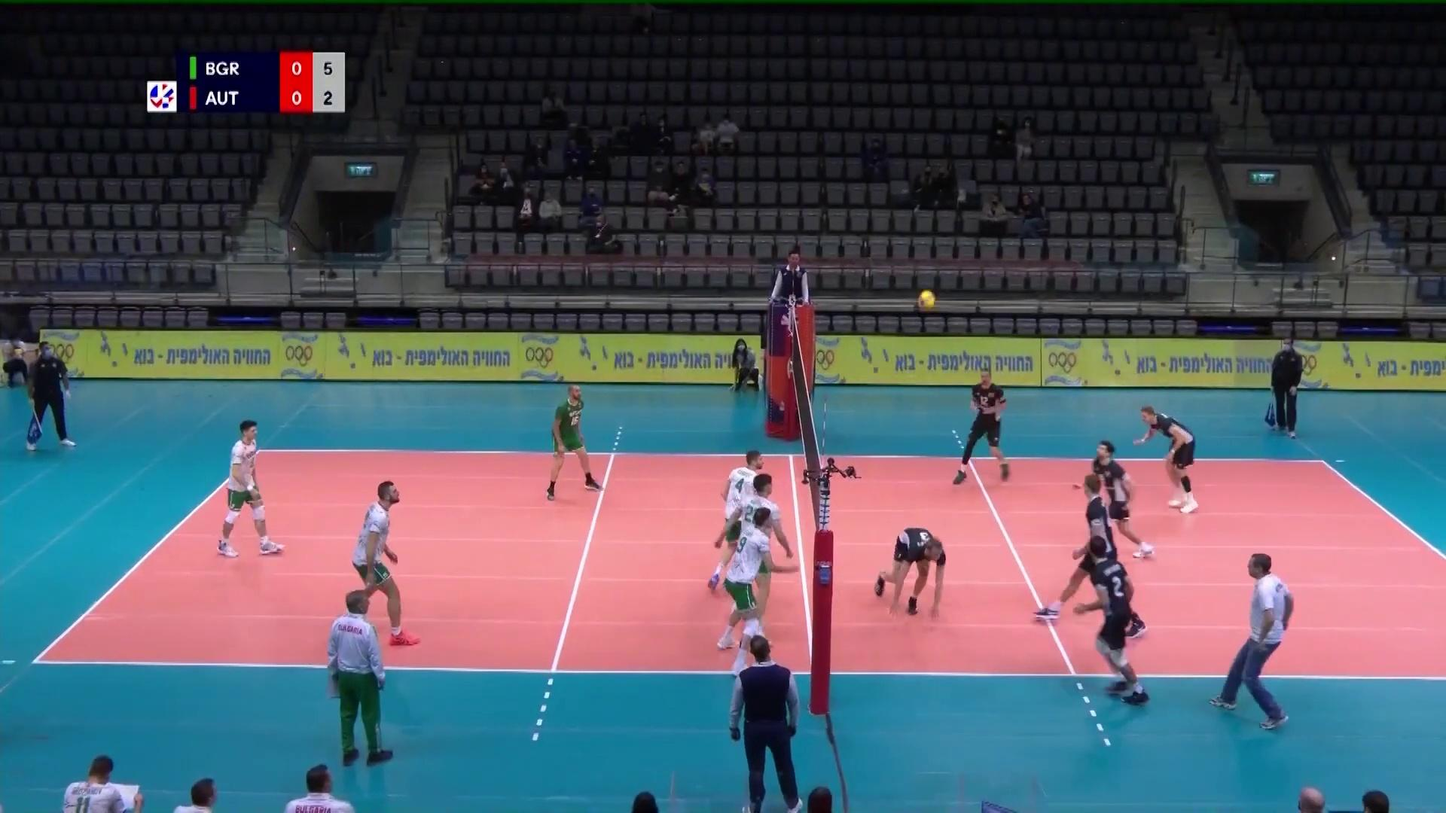ball: (918, 289, 937, 312)
